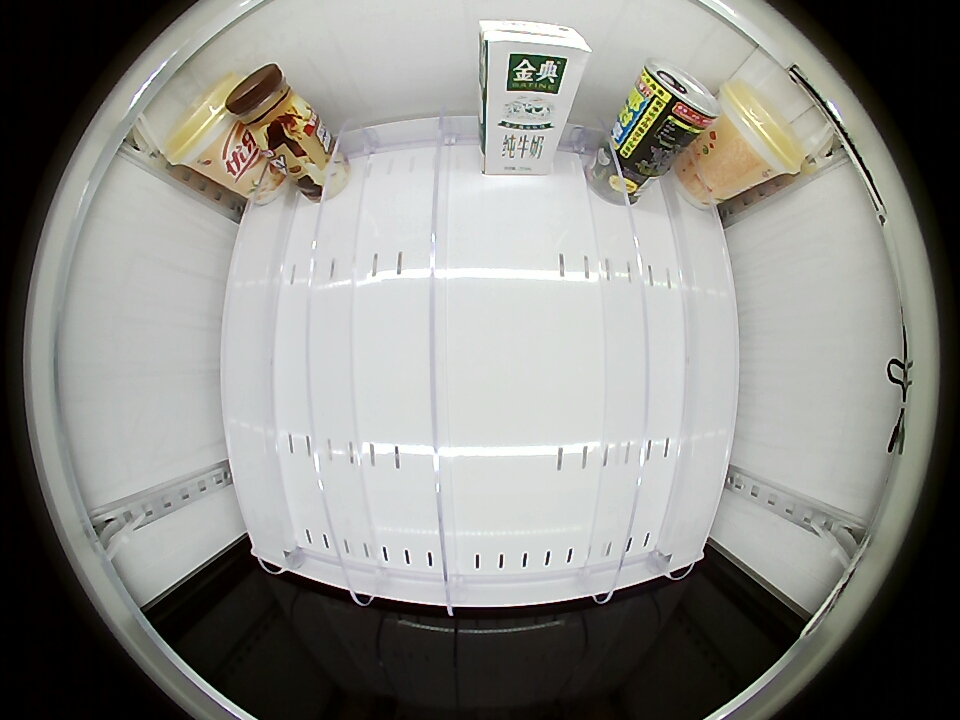jindian: (479, 18, 591, 95)
lujikafei: (227, 63, 306, 140)
yezhi: (636, 60, 719, 138)
youlemei: (717, 80, 803, 184), (163, 73, 241, 171)
